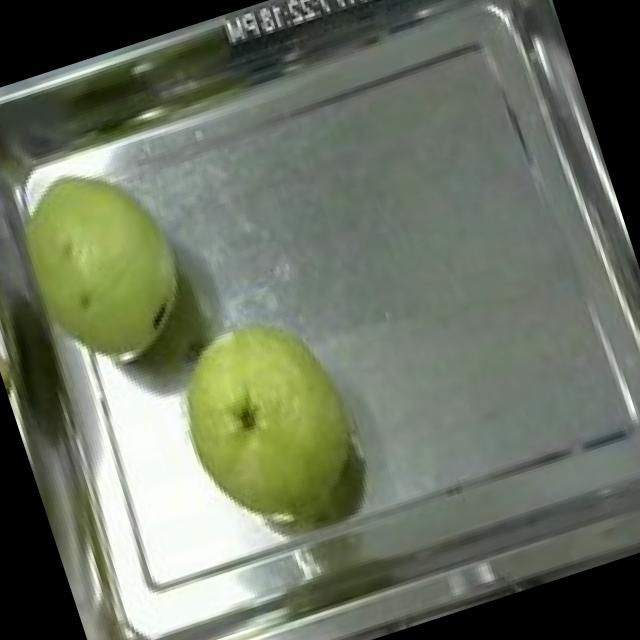Fruit: (150, 288, 394, 556), (0, 145, 217, 401)
